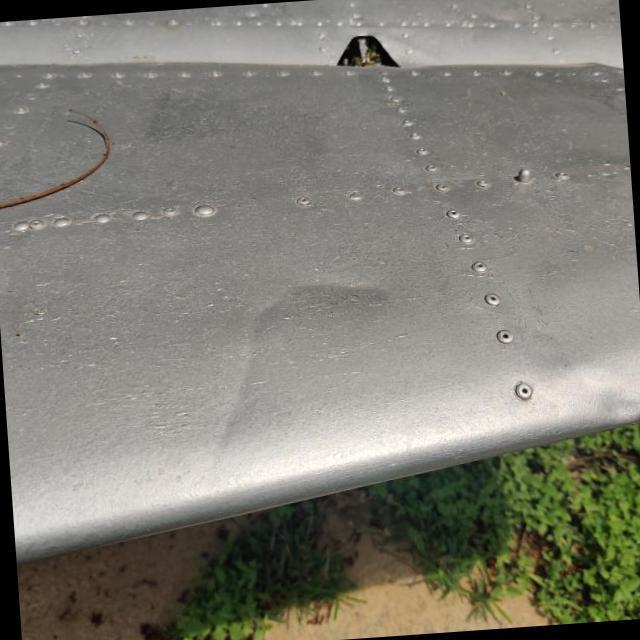dent: (205, 308, 288, 462), (256, 266, 400, 352), (565, 349, 639, 435)
